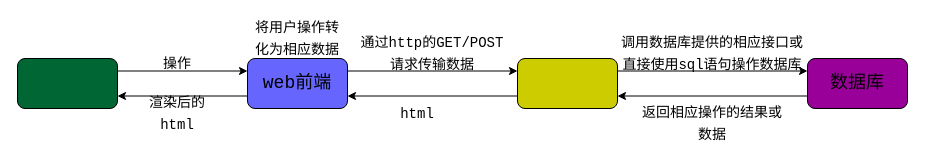
The diagram is 925 pixels wide and 162 high, and some of its shapes have lost their labels. The centre of each missing label's shape, as x and y in pixels:
"服务端" belongs at pixel 567 83.
"用户/管理员" belongs at pixel 67 83.
